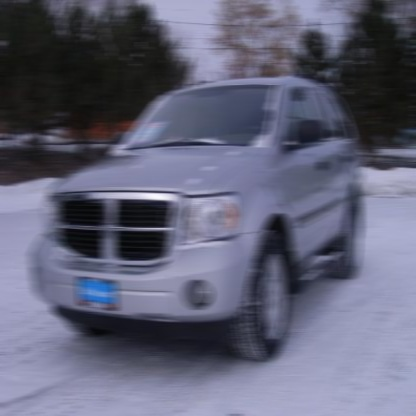Vehicle: (33, 76, 365, 365)
